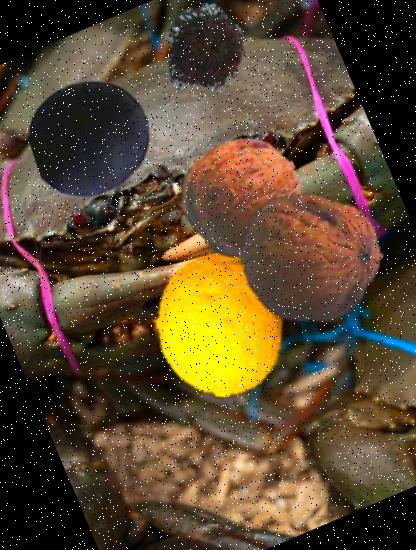Cantaloupe: (122, 228, 312, 418)
Grape: (12, 59, 171, 218)
Rambutan: (143, 0, 265, 112)
Walnut: (216, 164, 406, 354), (164, 118, 322, 277)
